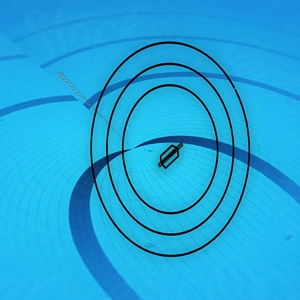circle: (88, 38, 254, 267)
submarine: (156, 141, 187, 170)
